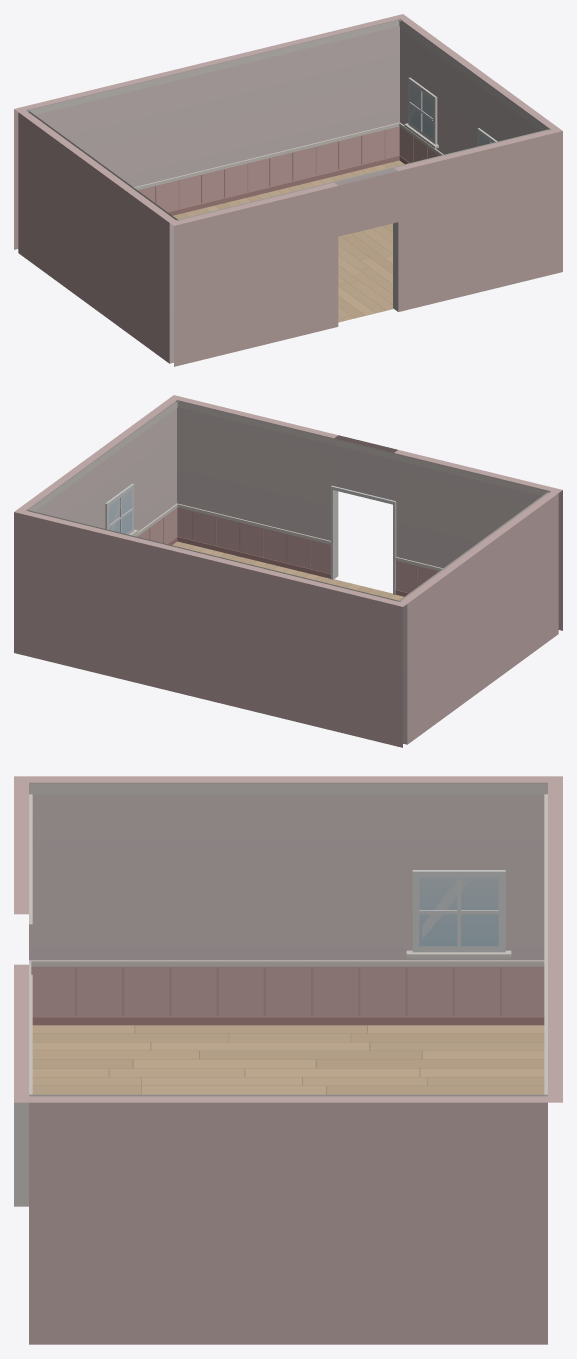
File: rumah3_interior_shell.glb
The picture shows the model from 3 angles, top to bottom: view 1: azimuth 30°, elevation 25°; view 2: azimuth 150°, elevation 25°; view 3: azimuth 270°, elevation 25°; orthographic projection. The views are drawn at different scales.
Parts seen in each view (by area): view 1: dinding_selatan, dinding_utara, dinding_barat, dinding_timur, lantai; view 2: dinding_utara, dinding_selatan, dinding_barat, dinding_timur, lantai; view 3: dinding_timur, dinding_barat, lantai, dinding_selatan, dinding_utara.
Boxes of the visible parts, x1,y1,x2,y2 form: dinding_selatan: (169,128,562,366); dinding_utara: (14,14,406,249); dinding_barat: (18,110,178,363); dinding_timur: (398,17,558,164); lantai: (173,160,404,322); dinding_utara: (14,509,407,747); dinding_selatan: (170,395,562,630); dinding_barat: (398,491,558,744); dinding_timur: (18,398,178,545); lantai: (172,541,403,600); dinding_timur: (29,1094,547,1344); dinding_barat: (29,776,547,1025); lantai: (32,1025,544,1094); dinding_selatan: (14,776,32,1206); dinding_utara: (544,776,562,1102).
Bounding box in the file's own units: 10.4 × 3.6 × 7.4.
